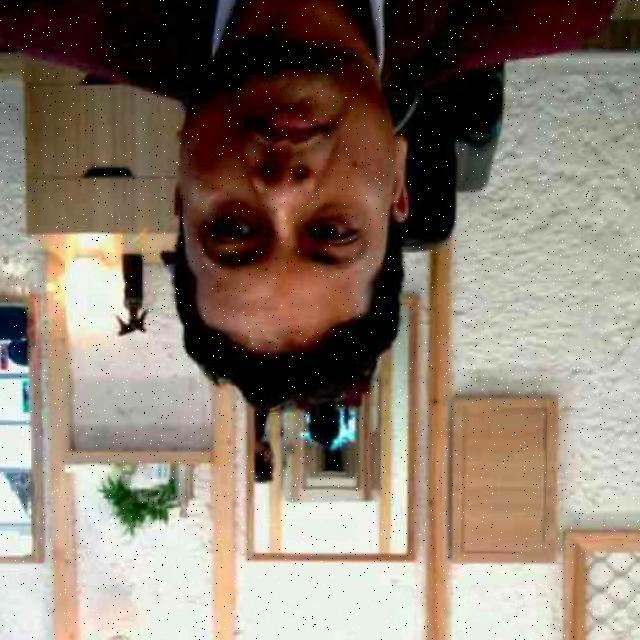puffy_eyes: (305, 207, 359, 219)
